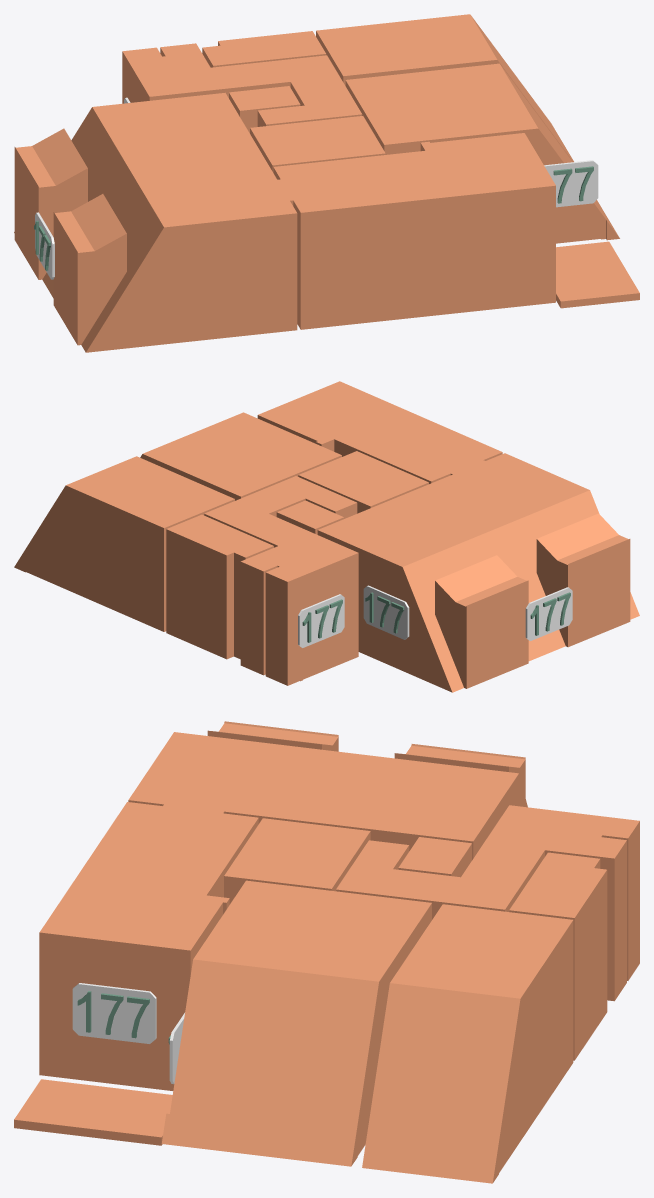
3 renders of one model, top to bottom at view 1: azimuth 30°, elevation 25°; view 2: azimuth 150°, elevation 25°; view 3: azimuth 270°, elevation 25°, orthographic. The views are drawn at different scales.
Parts seen in each view (by area): view 1: g_6, g_5, g_1, g_4, g_2, g_3, g_8, g_0, g_7, g_16, g_12; view 2: g_6, g_2, g_4, g_5, g_0, g_1, g_3, g_24, g_12, g_20, g_7; view 3: g_1, g_2, g_5, g_6, g_4, g_0, g_3, g_8, g_28, g_7.
Boxes of the visible parts, x1,y1,x2,y2 form: g_6: (14,92,297,352); g_5: (273,133,555,329); g_1: (345,63,619,243); g_4: (122,43,362,126); g_2: (316,14,573,162); g_3: (250,116,385,172); g_8: (556,241,639,308); g_0: (202,31,326,67); g_7: (229,86,300,133); g_16: (544,160,598,207); g_12: (35,212,54,279); g_6: (317,453,639,692); g_2: (14,456,234,631); g_4: (204,476,358,685); g_5: (257,381,502,483); g_0: (166,514,273,659); g_1: (140,412,341,500); g_3: (298,451,428,513); g_24: (363,585,409,639); g_12: (525,587,572,640); g_20: (298,594,344,647); g_7: (276,500,343,534); g_1: (161,880,431,1166); g_2: (362,904,573,1183); g_5: (39,802,258,1090); g_6: (128,721,527,860); g_4: (336,805,639,1001); g_0: (509,852,607,1060); g_3: (224,818,370,904); g_8: (14,1079,172,1145); g_28: (72,983,156,1043); g_7: (398,837,471,877).
Size of the model in its own units: 13.31 by 2.71 by 10.12.
